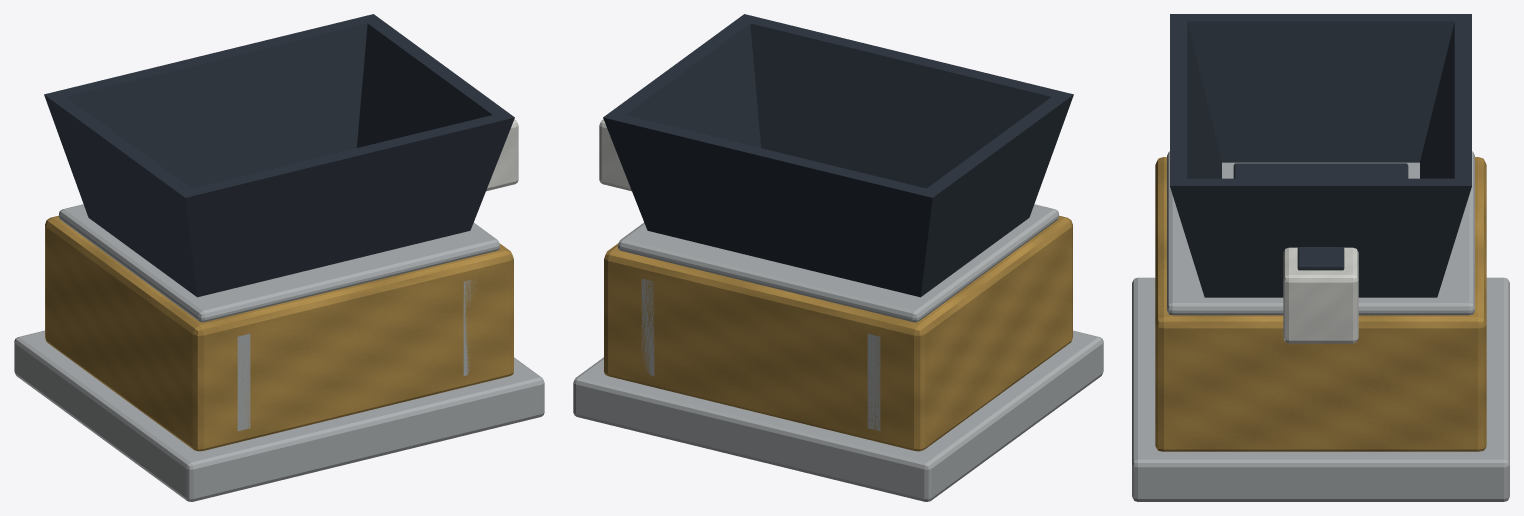
The model's file is satellite_earth_imager.glb.
3 views of the same model, side by side, from view 1: azimuth 30°, elevation 25°; view 2: azimuth 150°, elevation 25°; view 3: azimuth 270°, elevation 25° (orthographic). The views are drawn at different scales.
Parts seen in each view (by area): view 1: EarthView_Baffle, Optical_ThermalHousing, Optical_InstrumentBase, Optical_FrontPlate, Instrument_SideRail, Calibration_Baffle; view 2: EarthView_Baffle, Optical_ThermalHousing, Optical_InstrumentBase, Optical_FrontPlate, Instrument_SideRail, Calibration_Baffle, Instrument_SideRail.001; view 3: EarthView_Baffle, Optical_ThermalHousing, Optical_InstrumentBase, Optical_FrontPlate, Calibration_Baffle, EarthView_Window, Calibration_Window.
Boxes of the visible parts, box(x1,y1,x2,y2) form: EarthView_Baffle: box(44, 14, 514, 297); Optical_ThermalHousing: box(45, 215, 513, 451); Optical_InstrumentBase: box(14, 330, 544, 501); Optical_FrontPlate: box(59, 204, 499, 322); Instrument_SideRail: box(237, 334, 250, 430); Calibration_Baffle: box(486, 119, 518, 191); EarthView_Baffle: box(603, 14, 1073, 297); Optical_ThermalHousing: box(604, 215, 1072, 451); Optical_InstrumentBase: box(573, 330, 1103, 501); Optical_FrontPlate: box(618, 204, 1058, 322); Instrument_SideRail: box(867, 334, 880, 430); Calibration_Baffle: box(599, 119, 631, 191); Instrument_SideRail.001: box(641, 278, 654, 375); EarthView_Baffle: box(1170, 14, 1471, 297); Optical_ThermalHousing: box(1155, 157, 1486, 451); Optical_InstrumentBase: box(1132, 277, 1509, 501); Optical_FrontPlate: box(1167, 151, 1474, 315); Calibration_Baffle: box(1283, 247, 1358, 343); EarthView_Window: box(1233, 163, 1408, 178); Calibration_Window: box(1297, 247, 1344, 270).
Bounding box in the file's own units: 0.855 × 0.59 × 0.65.
Materials: 4 (2 with a texture image).
